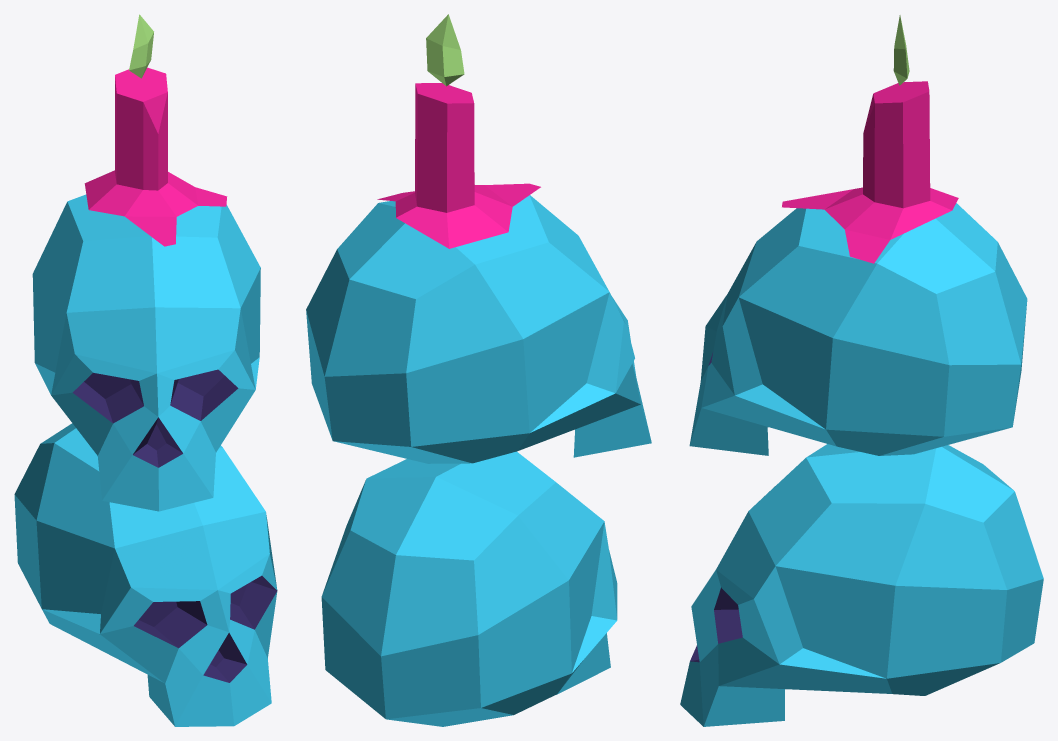
File: 009_Skull.fbx
3 renders of one model, left to right at view 1: azimuth 30°, elevation 25°; view 2: azimuth 150°, elevation 25°; view 3: azimuth 270°, elevation 25°, orthographic. The views are drawn at different scales.
Parts seen in each view (by area): view 1: SKULL; view 2: SKULL; view 3: SKULL.
Part boxes in pixels (x1,y1,x2,y2): SKULL: [14, 14, 277, 726]; SKULL: [306, 14, 651, 726]; SKULL: [680, 15, 1043, 726].
Bounding box in the file's own units: 41.25 × 113 × 53.61.
